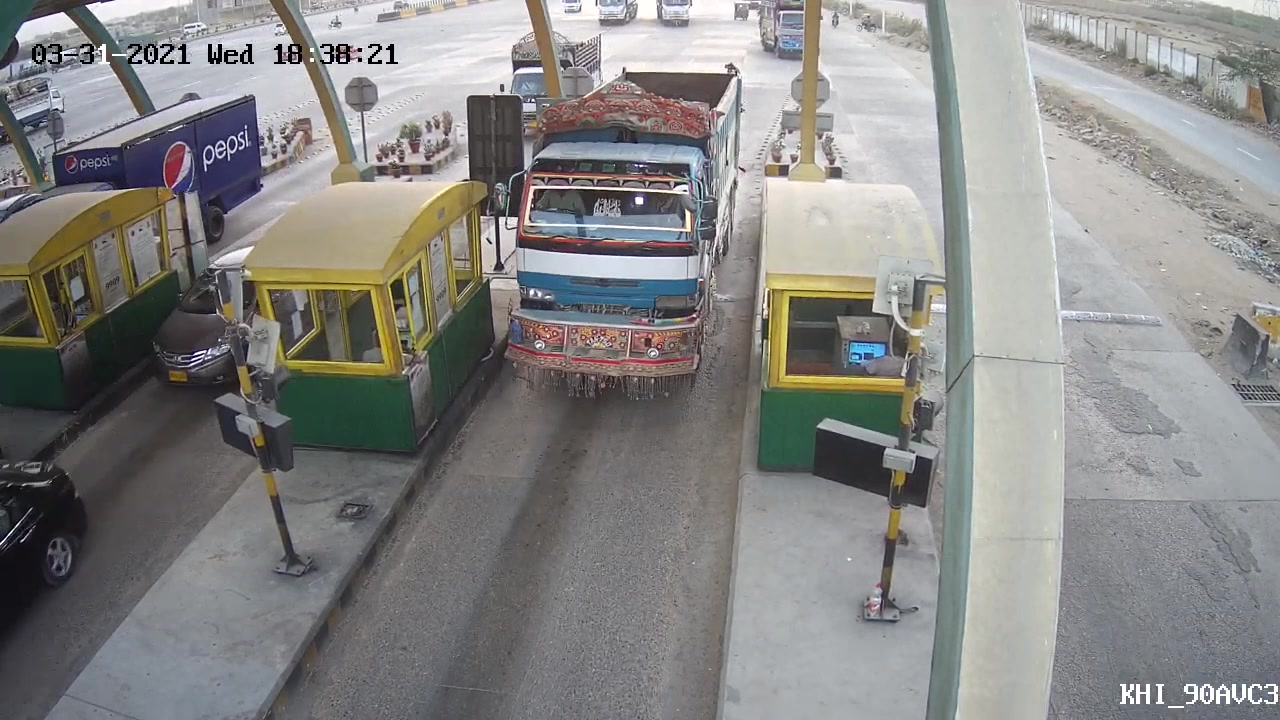F5: (497, 58, 751, 402)
